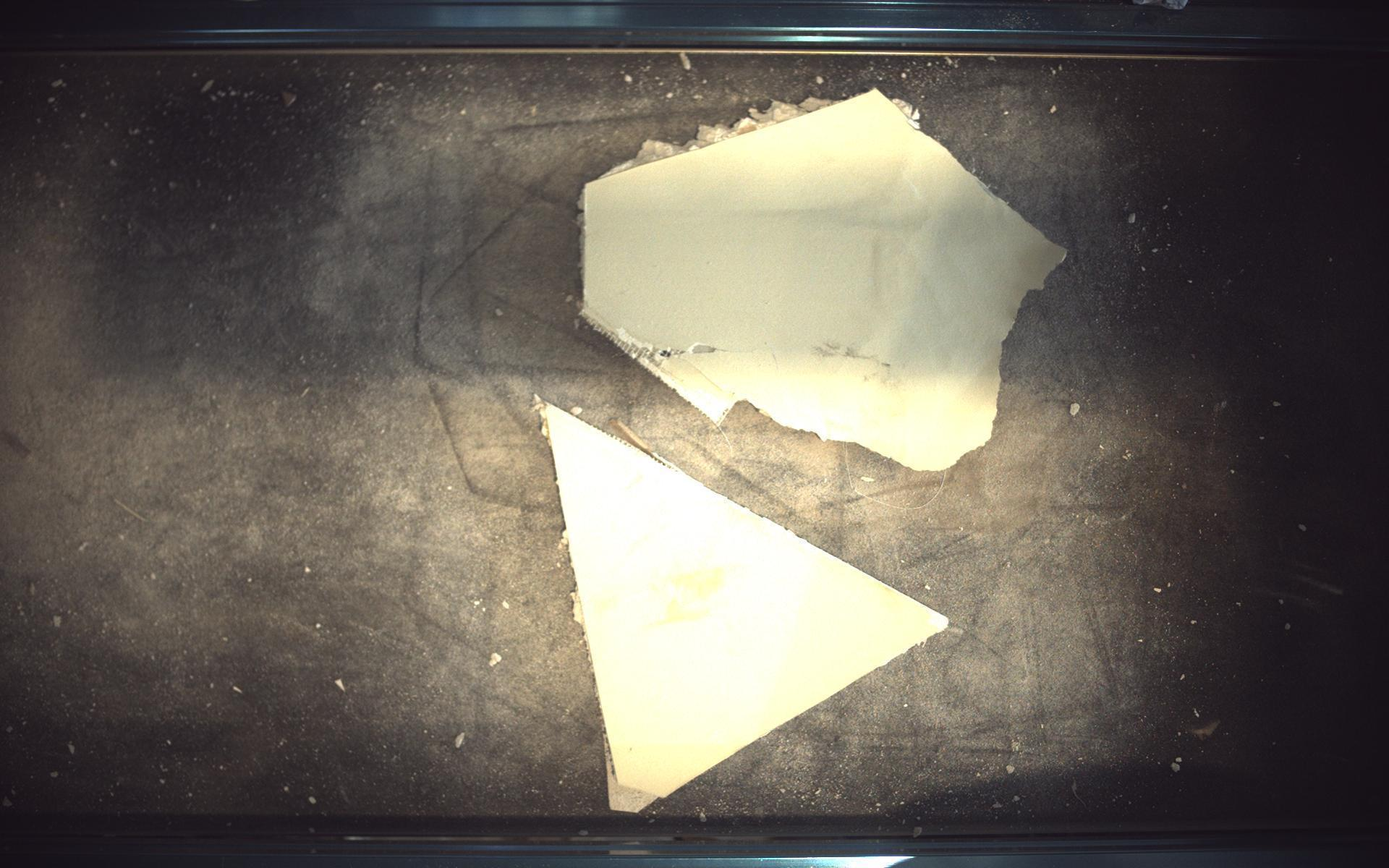gypsum_board: (582, 88, 1067, 471), (539, 401, 949, 813)
